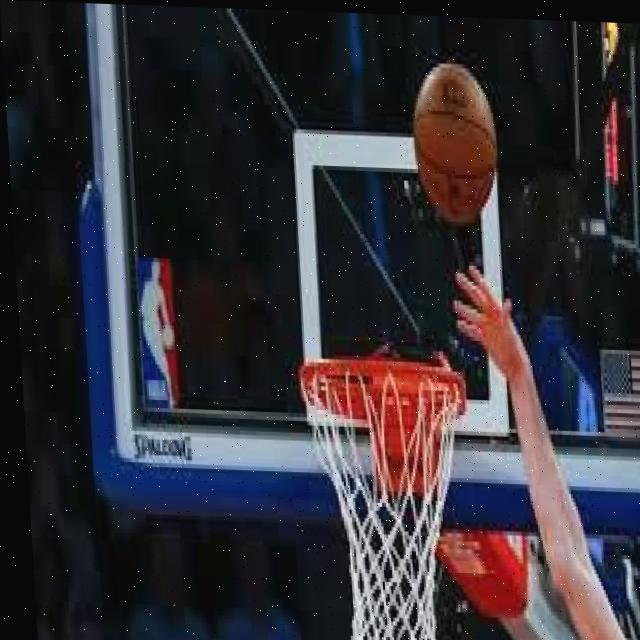basketball: (407, 56, 504, 230)
hoop: (298, 353, 477, 640)
